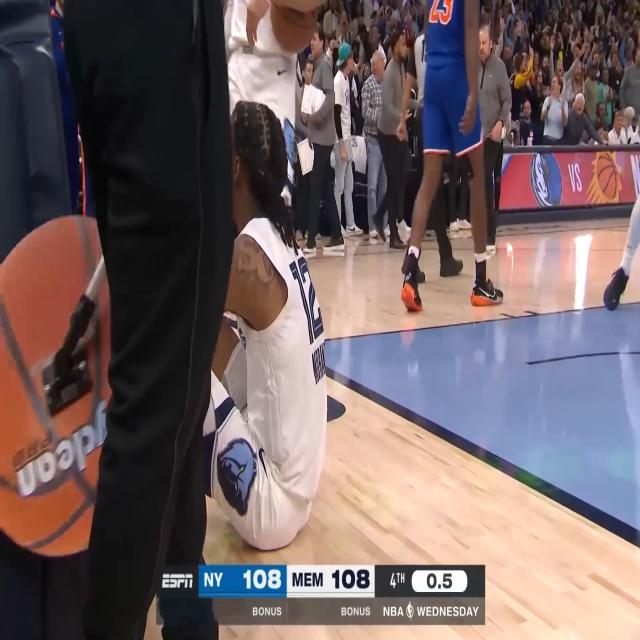Ball: (270, 0, 318, 54)
Player: (196, 100, 326, 550), (402, 0, 506, 313), (224, 0, 299, 224), (601, 192, 640, 312)
Ref: (64, 0, 232, 640), (400, 11, 462, 280)
